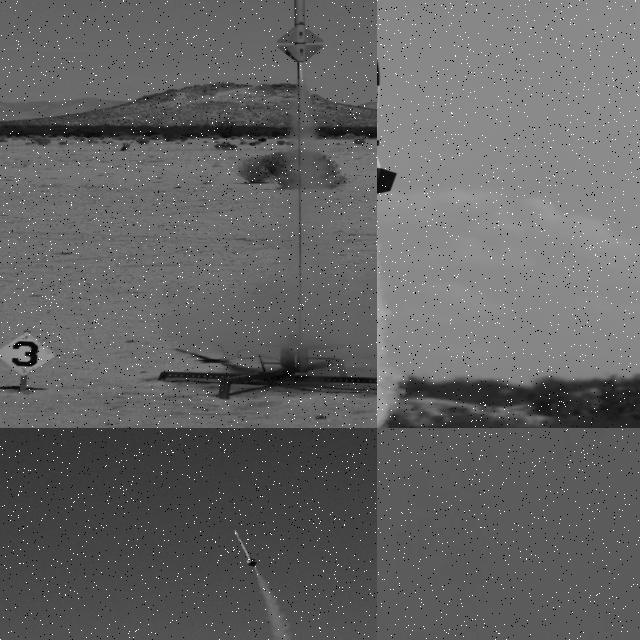Rocket: (275, 0, 324, 63), (377, 54, 398, 196), (234, 530, 258, 567)
